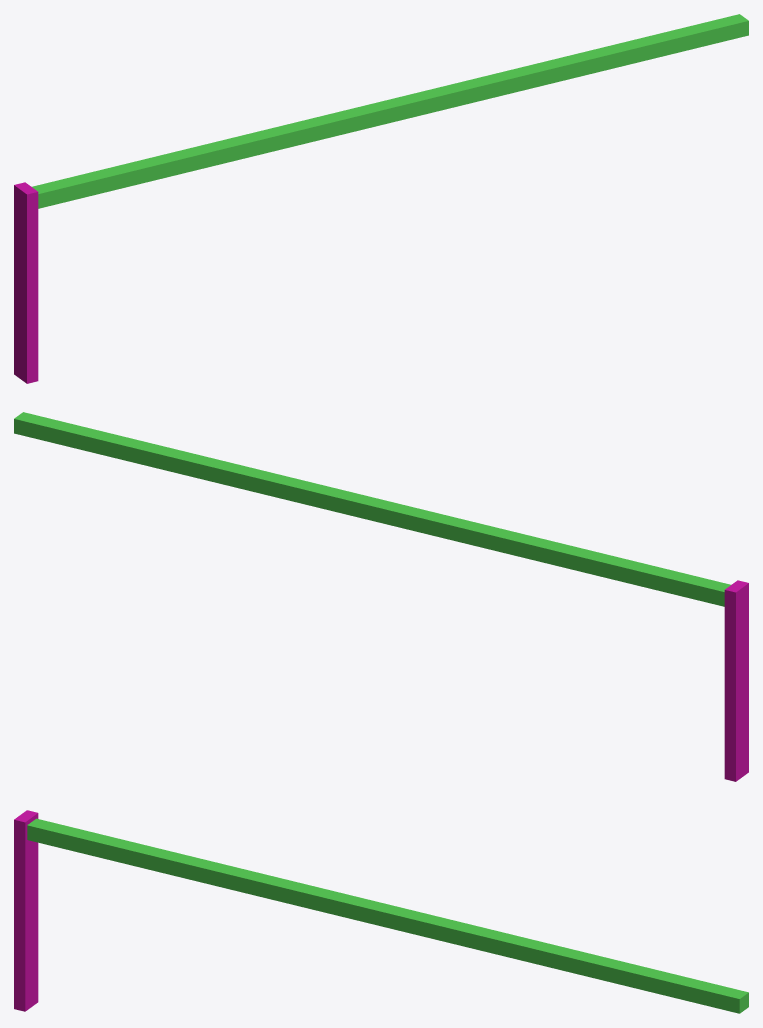
The model's file is barrierParking.fbx.
3 views of the same model, one above another, from view 1: azimuth 30°, elevation 25°; view 2: azimuth 150°, elevation 25°; view 3: azimuth 330°, elevation 25° (orthographic).
Visible parts, largest first — view 1: barrier2; view 2: barrier2; view 3: barrier2.
Part boxes in pixels (<box>): barrier2: <box>14,14,748,383</box>; barrier2: <box>14,412,748,781</box>; barrier2: <box>14,810,748,1013</box>.
Bounding box in the file's own units: 512 × 128 × 16.
